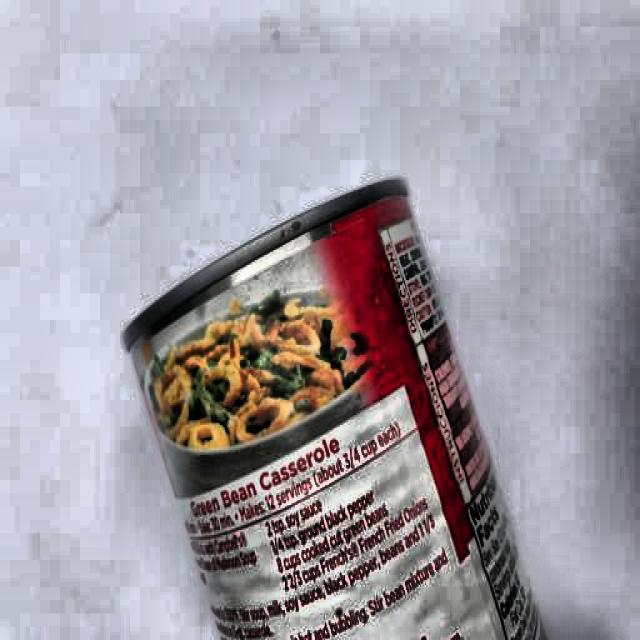metal: (129, 187, 545, 640)
